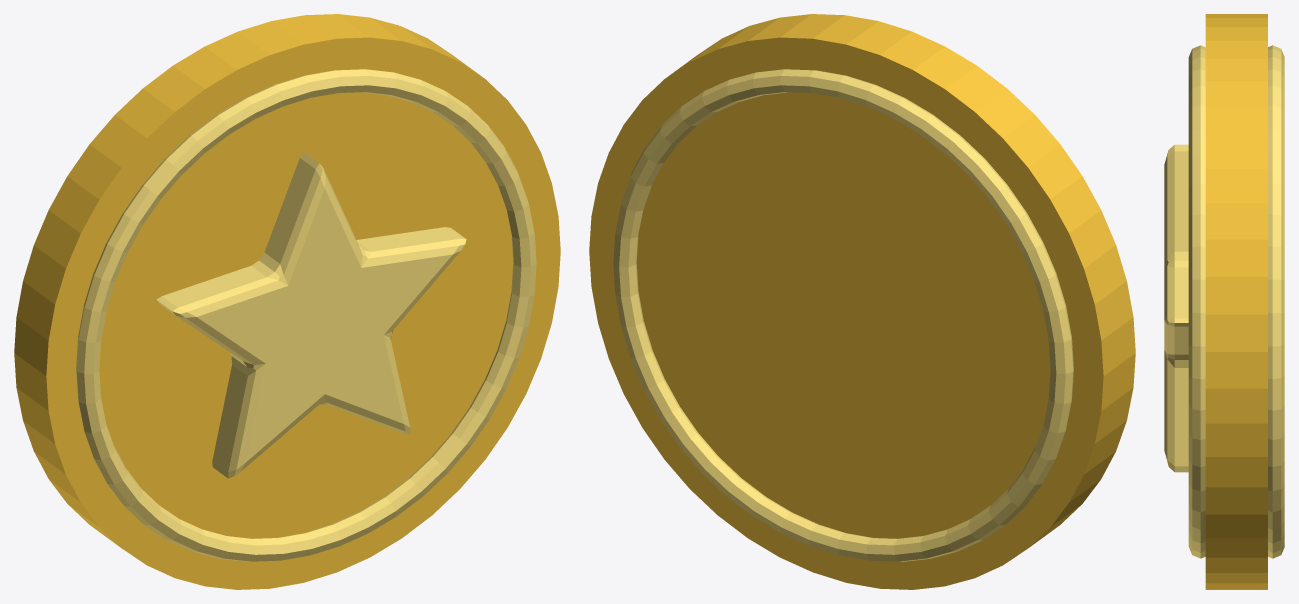
Rendered from lead-coin.glb.
3 renders of one model, left to right at view 1: azimuth 30°, elevation 25°; view 2: azimuth 150°, elevation 25°; view 3: azimuth 270°, elevation 25°, orthographic. The views are drawn at different scales.
Parts seen in each view (by area): view 1: Coin body, Raised LEAD star, Coin rim.001; view 2: Coin body, Coin rim; view 3: Coin body, Coin rim.001, Coin rim, Raised LEAD star.
Boxes of the visible parts, x1,y1,x2,y2 form: Coin body: (14, 14, 560, 589); Raised LEAD star: (156, 152, 466, 478); Coin rim.001: (76, 69, 536, 561); Coin body: (589, 14, 1135, 589); Coin rim: (613, 69, 1073, 561); Coin body: (1205, 14, 1267, 589); Coin rim.001: (1188, 45, 1205, 558); Coin rim: (1268, 45, 1284, 558); Raised LEAD star: (1164, 144, 1188, 472).
Size of the model in its own units: 1.2 by 1.2 by 0.251.
